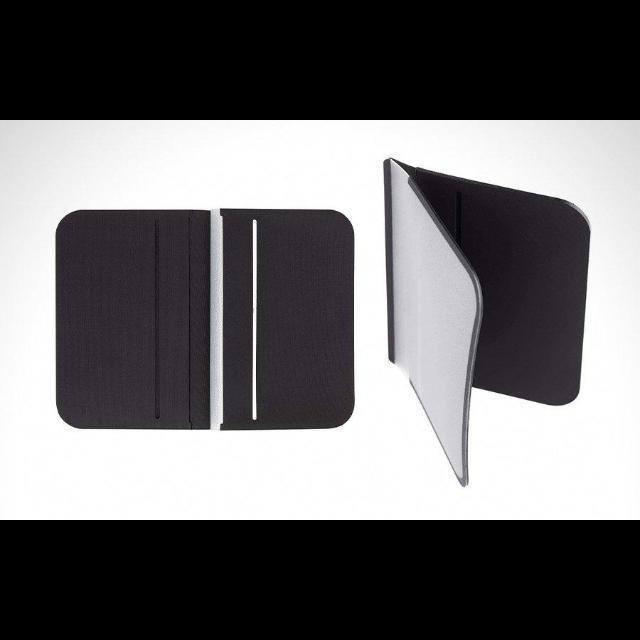wallet: (378, 152, 594, 490), (50, 200, 356, 432)
